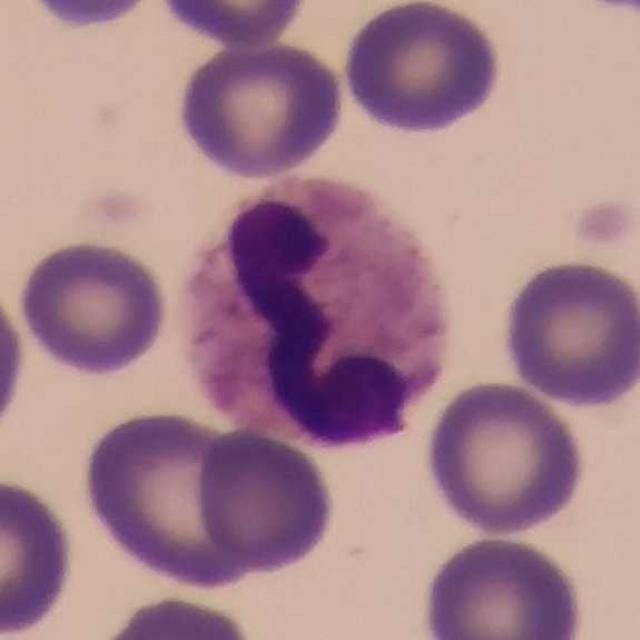Neutrophil: (166, 164, 467, 460)
Platelets: (564, 196, 636, 255)
RBC: (76, 406, 276, 594), (420, 376, 591, 540), (172, 36, 348, 182), (189, 424, 340, 580), (13, 235, 174, 379), (338, 0, 506, 138), (496, 254, 640, 411), (416, 531, 590, 640), (0, 471, 79, 638), (88, 591, 264, 640), (149, 0, 315, 50), (0, 265, 30, 456), (14, 0, 166, 33)
